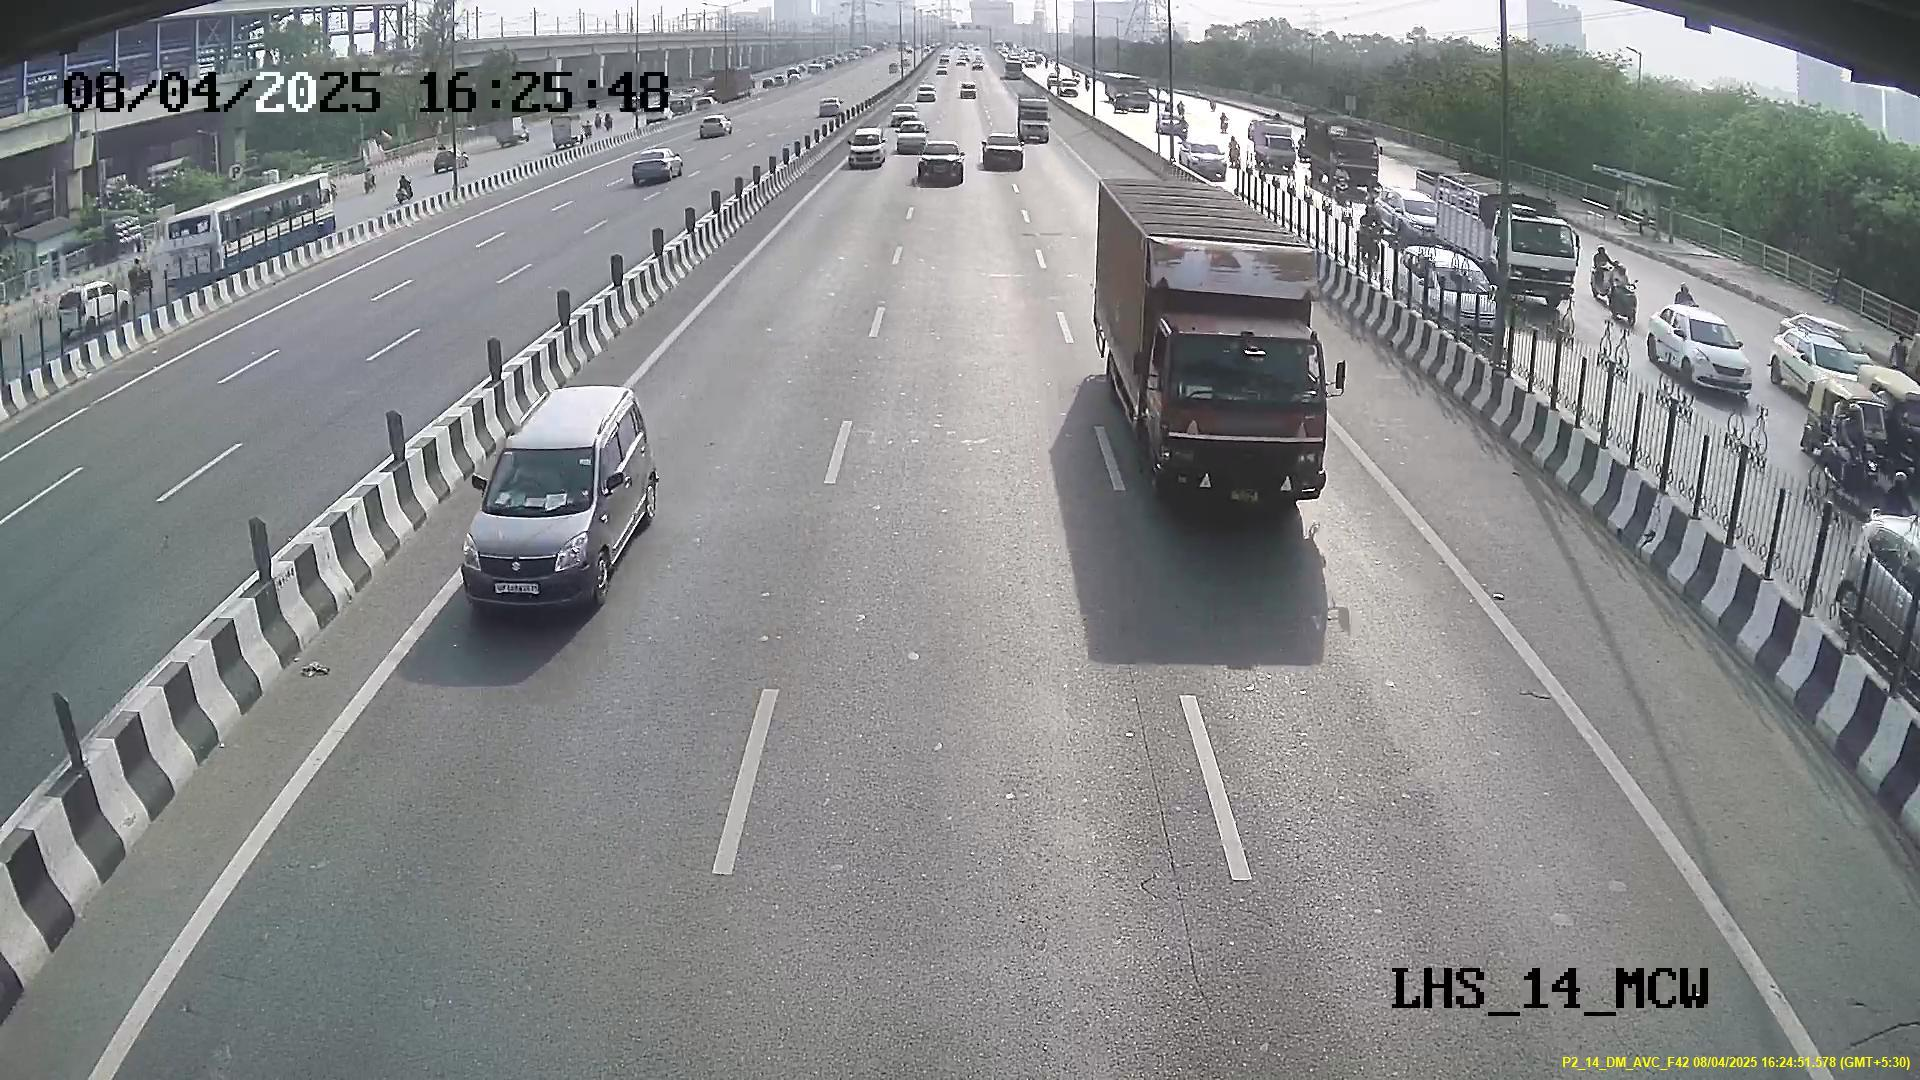car: (459, 423, 628, 616)
lcv: (1126, 294, 1340, 520)
